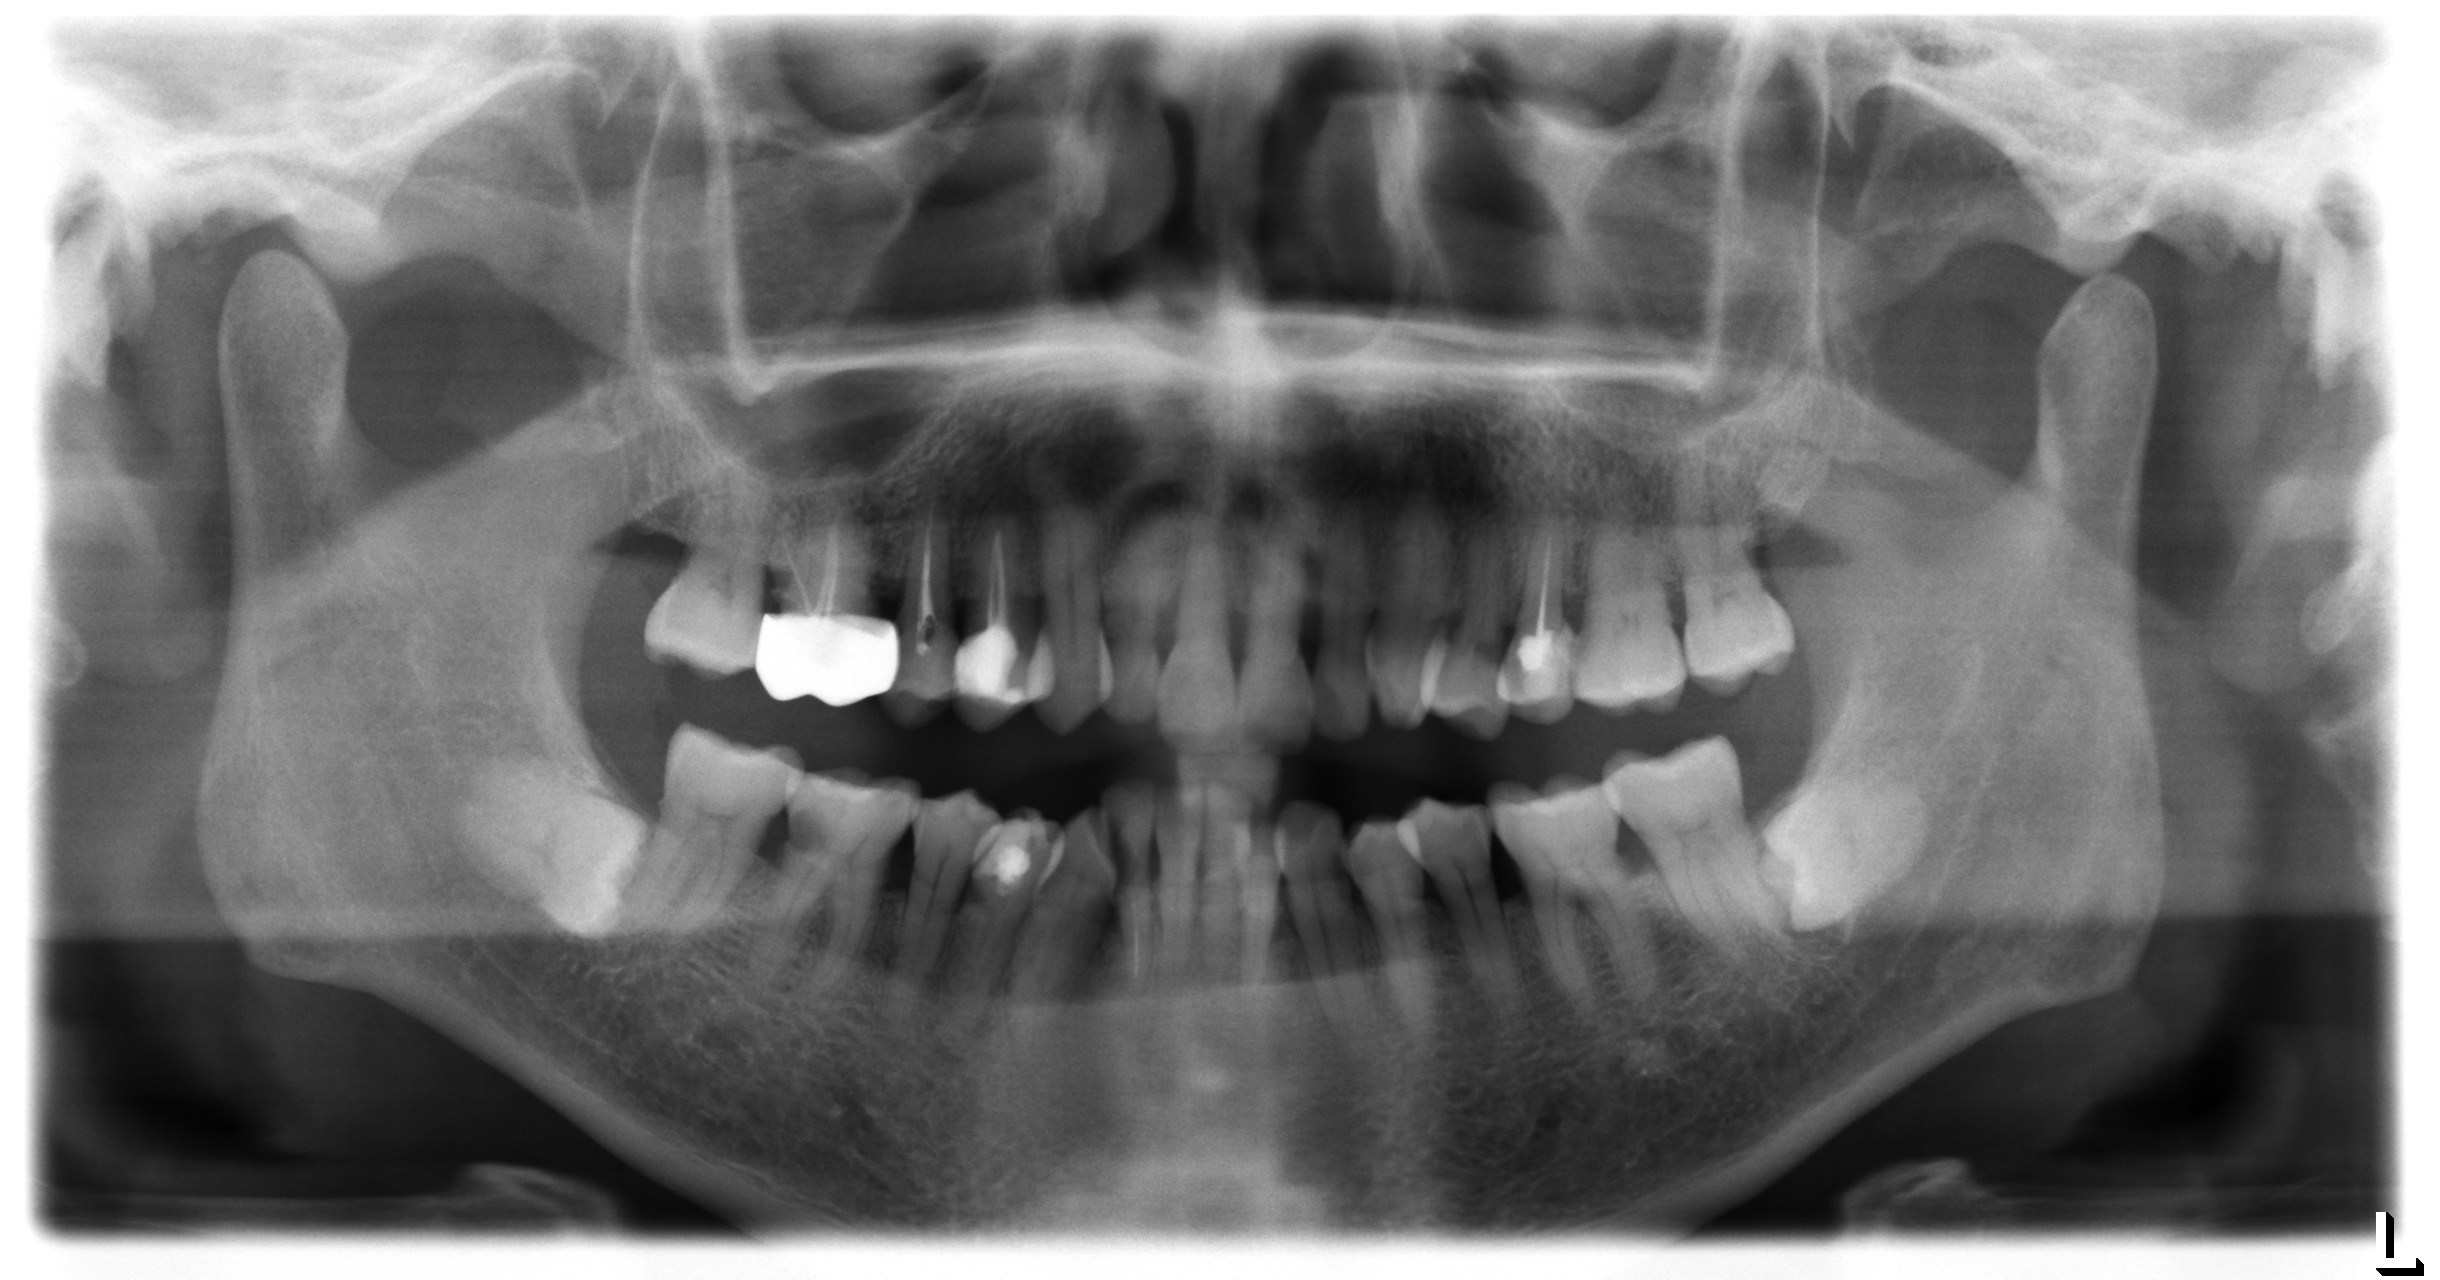Decay: (779, 802, 834, 865)
